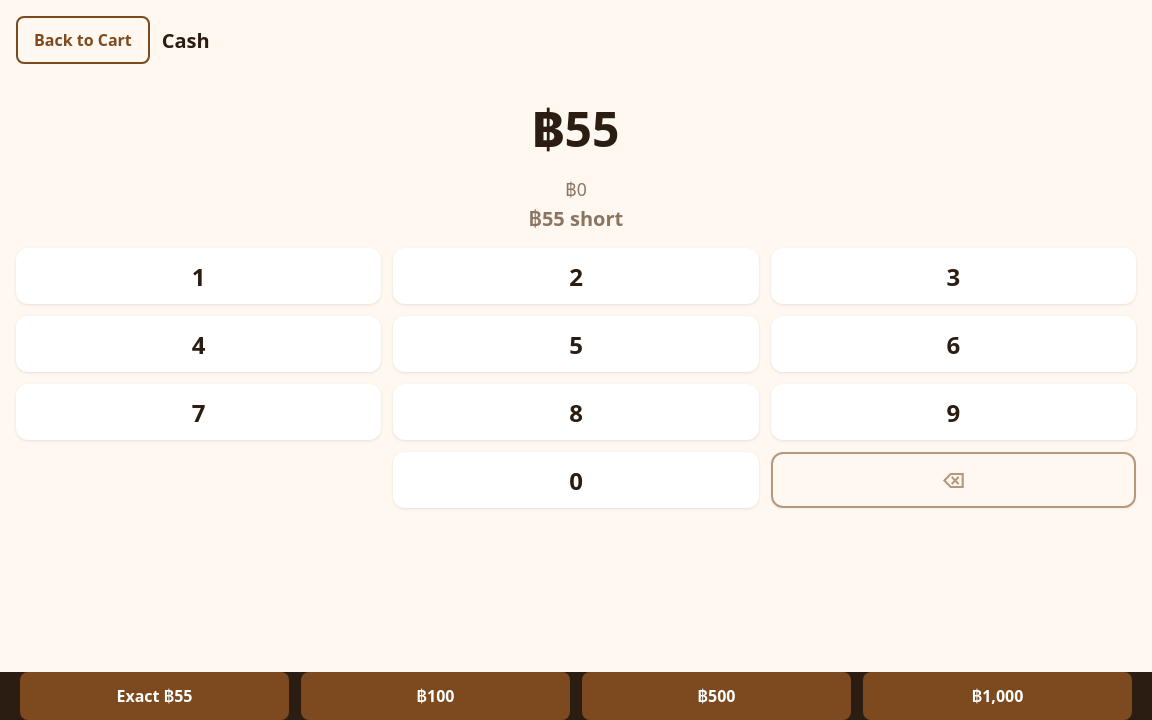
Test: CashScreen › the Delete key removes the last digit typed, and the bottom bar shows quick-tender notes again once the entry is empty
Click the button "6" at (953, 344), box 771,316 -> 1136,372
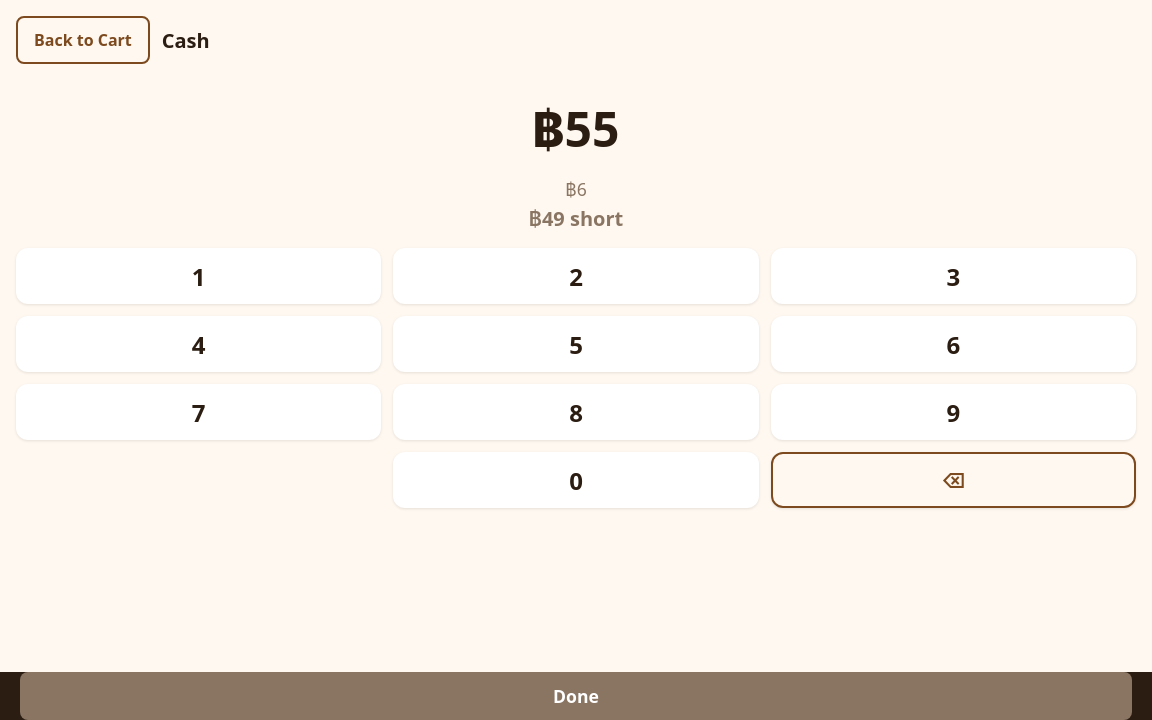
Expected: the button "Done" is shown, 20,672 -> 1132,719
Click the button named "Delete digit" at (953, 480), box 771,452 -> 1136,508
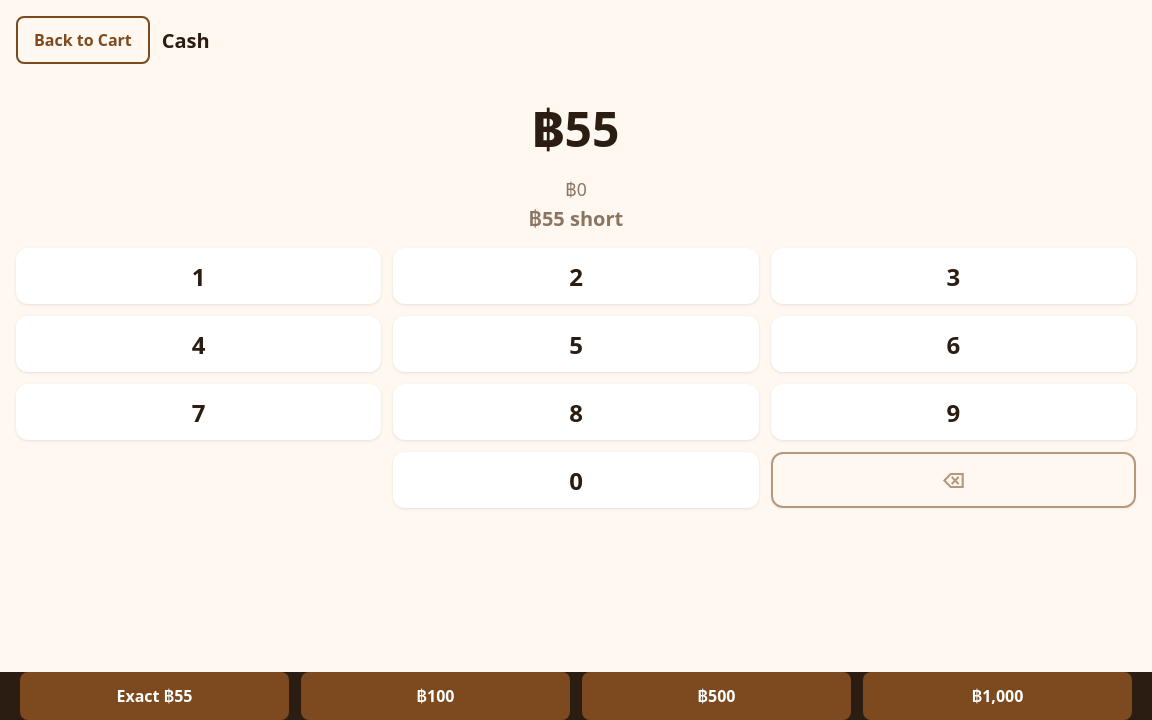
Expected: the button "Done" is gone
Expected: the button "Exact ฿55" is shown, 20,672 -> 289,719
